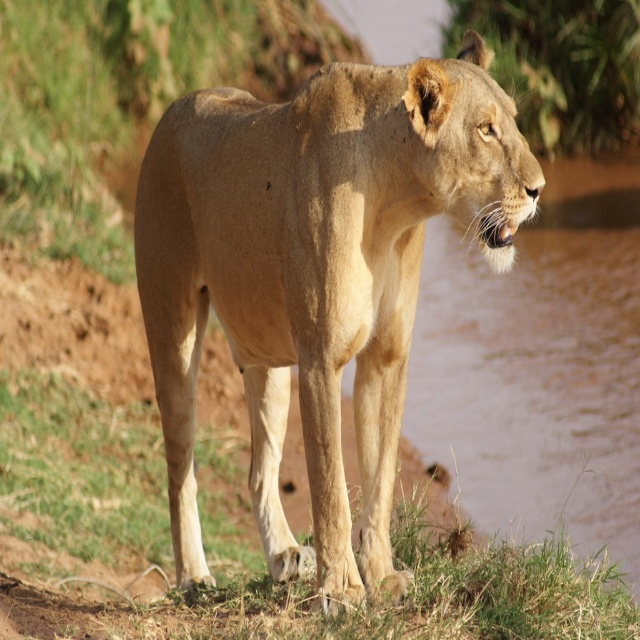Lion: (134, 29, 545, 615)
